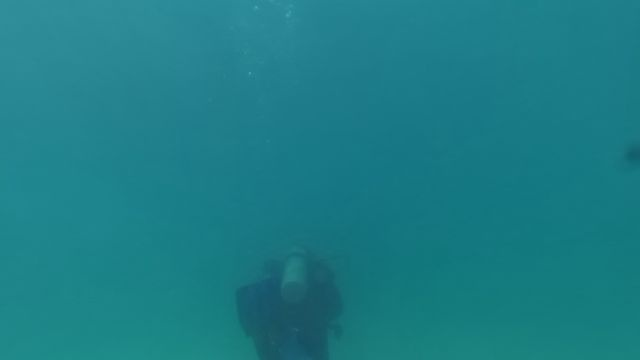Diver: (211, 234, 375, 356)
